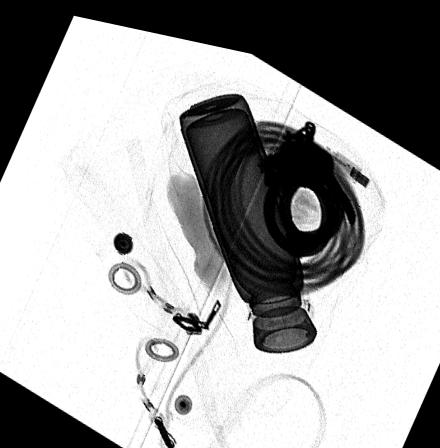HandCuffs: (257, 106, 355, 245)
